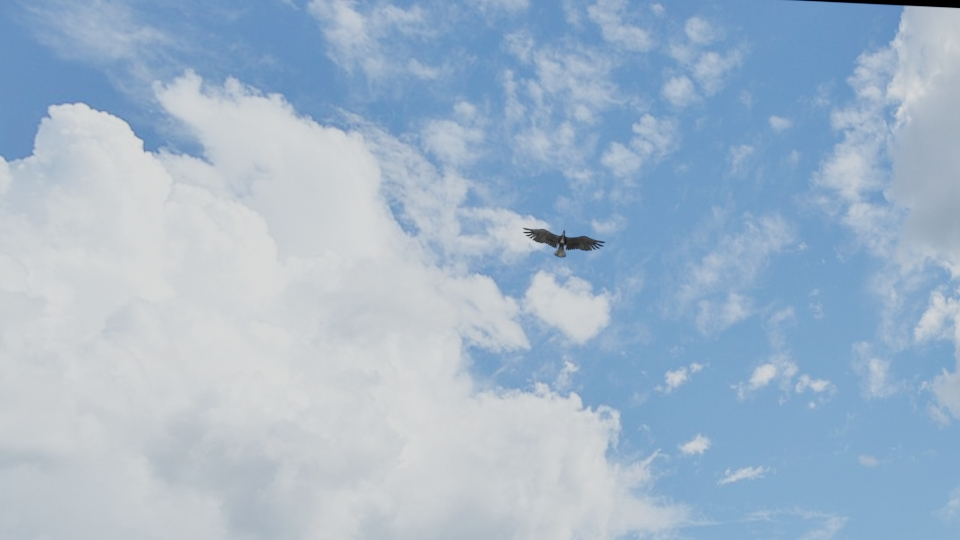bird: (522, 227, 605, 257)
